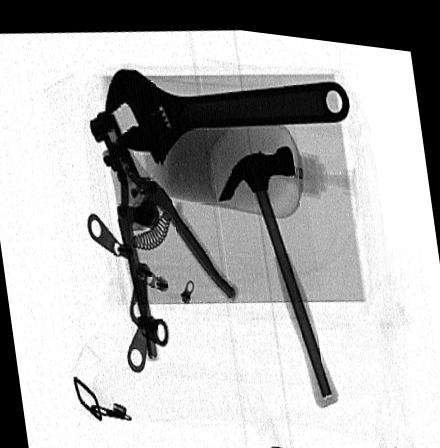Hammer: (217, 133, 339, 402)
Pliers: (87, 105, 240, 358)
Wrench: (104, 63, 349, 162)
